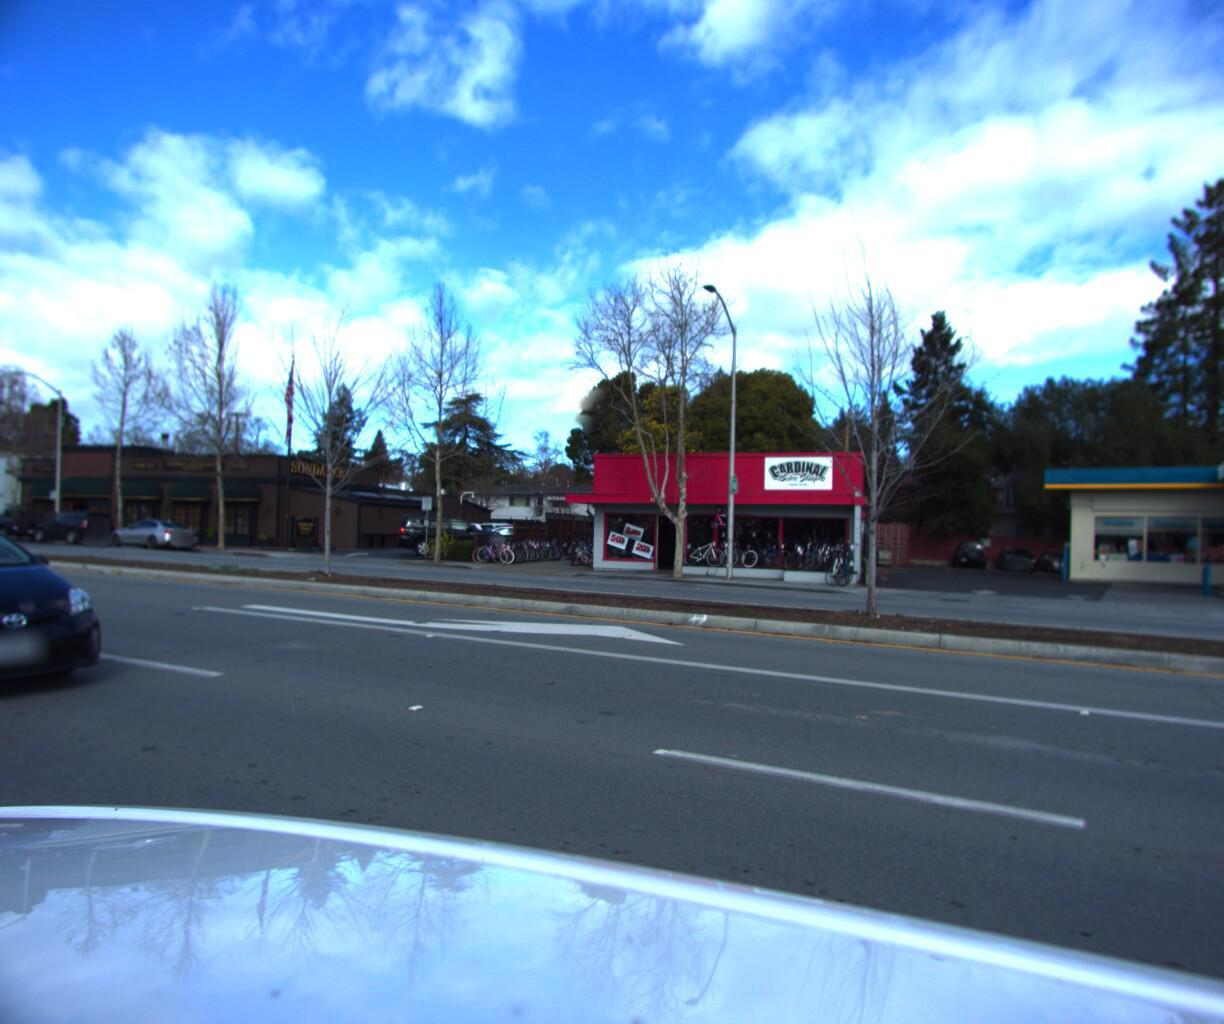bicycle: (467, 536, 509, 565), (473, 535, 515, 563), (481, 535, 522, 563), (488, 535, 528, 562), (502, 534, 541, 561), (496, 534, 535, 561), (511, 534, 549, 560), (522, 534, 559, 559), (518, 534, 555, 559), (554, 545, 596, 566), (833, 551, 859, 585), (728, 547, 752, 576), (705, 546, 729, 575), (688, 541, 711, 570), (676, 545, 698, 574), (559, 536, 582, 560)
car: (393, 513, 505, 558), (100, 520, 206, 554), (25, 513, 123, 549)
